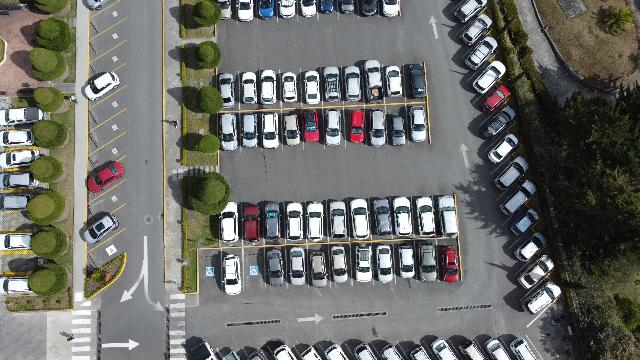Vehiculo: (520, 282, 562, 314), (499, 180, 536, 216), (84, 65, 120, 101), (86, 160, 124, 194), (516, 255, 554, 289), (494, 156, 528, 192), (464, 36, 498, 70), (481, 106, 515, 140), (83, 212, 119, 244), (472, 60, 506, 93), (460, 14, 492, 46), (488, 132, 518, 164), (514, 232, 546, 262), (364, 60, 384, 104), (1, 106, 44, 126), (481, 85, 511, 113), (509, 208, 539, 236), (350, 198, 370, 240), (418, 241, 438, 282), (219, 202, 239, 243), (438, 195, 458, 236), (222, 255, 242, 295), (416, 197, 436, 237), (0, 148, 40, 168), (218, 113, 238, 151), (393, 197, 412, 237), (454, 1, 488, 23), (306, 202, 324, 242), (264, 202, 282, 241), (266, 248, 284, 286), (330, 245, 348, 283), (374, 198, 392, 236), (242, 206, 260, 243), (344, 66, 362, 102), (261, 113, 279, 149), (323, 66, 341, 102), (329, 201, 346, 239), (408, 64, 426, 99), (431, 338, 459, 360), (484, 338, 512, 360), (409, 106, 426, 142), (0, 129, 34, 147), (369, 110, 386, 146), (376, 245, 392, 283), (290, 247, 306, 285), (356, 244, 372, 282), (286, 202, 302, 240), (1, 173, 39, 189), (509, 338, 536, 360), (302, 109, 320, 142), (325, 109, 341, 146), (442, 246, 458, 282), (310, 251, 326, 287), (2, 276, 34, 294), (260, 70, 276, 105), (219, 73, 235, 107), (242, 114, 258, 148), (304, 71, 320, 105), (284, 112, 300, 146), (280, 72, 298, 102), (4, 232, 34, 250), (190, 340, 217, 360), (349, 109, 365, 142), (1, 194, 34, 210), (459, 338, 483, 360), (242, 72, 258, 104), (389, 114, 405, 146), (398, 246, 414, 278), (386, 66, 402, 98), (237, 346, 267, 360), (236, 0, 254, 22), (325, 344, 349, 360), (354, 344, 378, 360), (380, 344, 404, 360), (274, 344, 298, 360), (278, 0, 296, 18), (258, 0, 274, 20), (410, 344, 430, 360), (382, 0, 400, 16), (360, 0, 378, 16), (217, 0, 231, 20), (300, 1, 316, 18), (84, 0, 108, 10), (320, 1, 334, 14), (340, 1, 354, 14)
